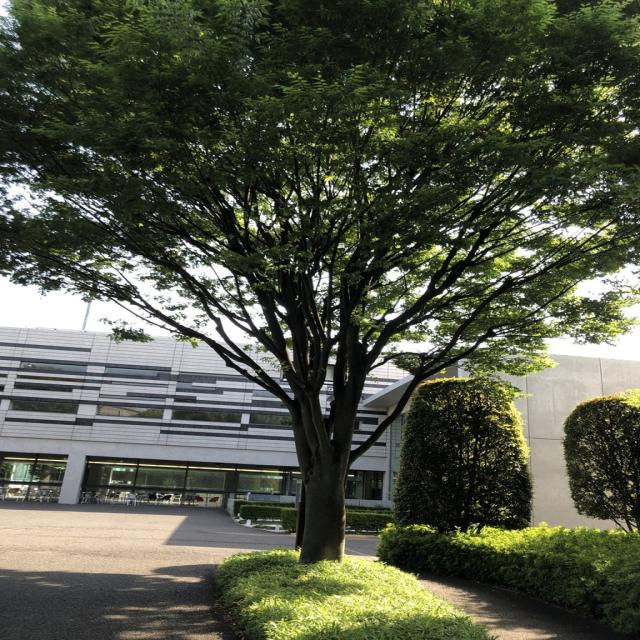zelkova: (0, 0, 640, 565)
